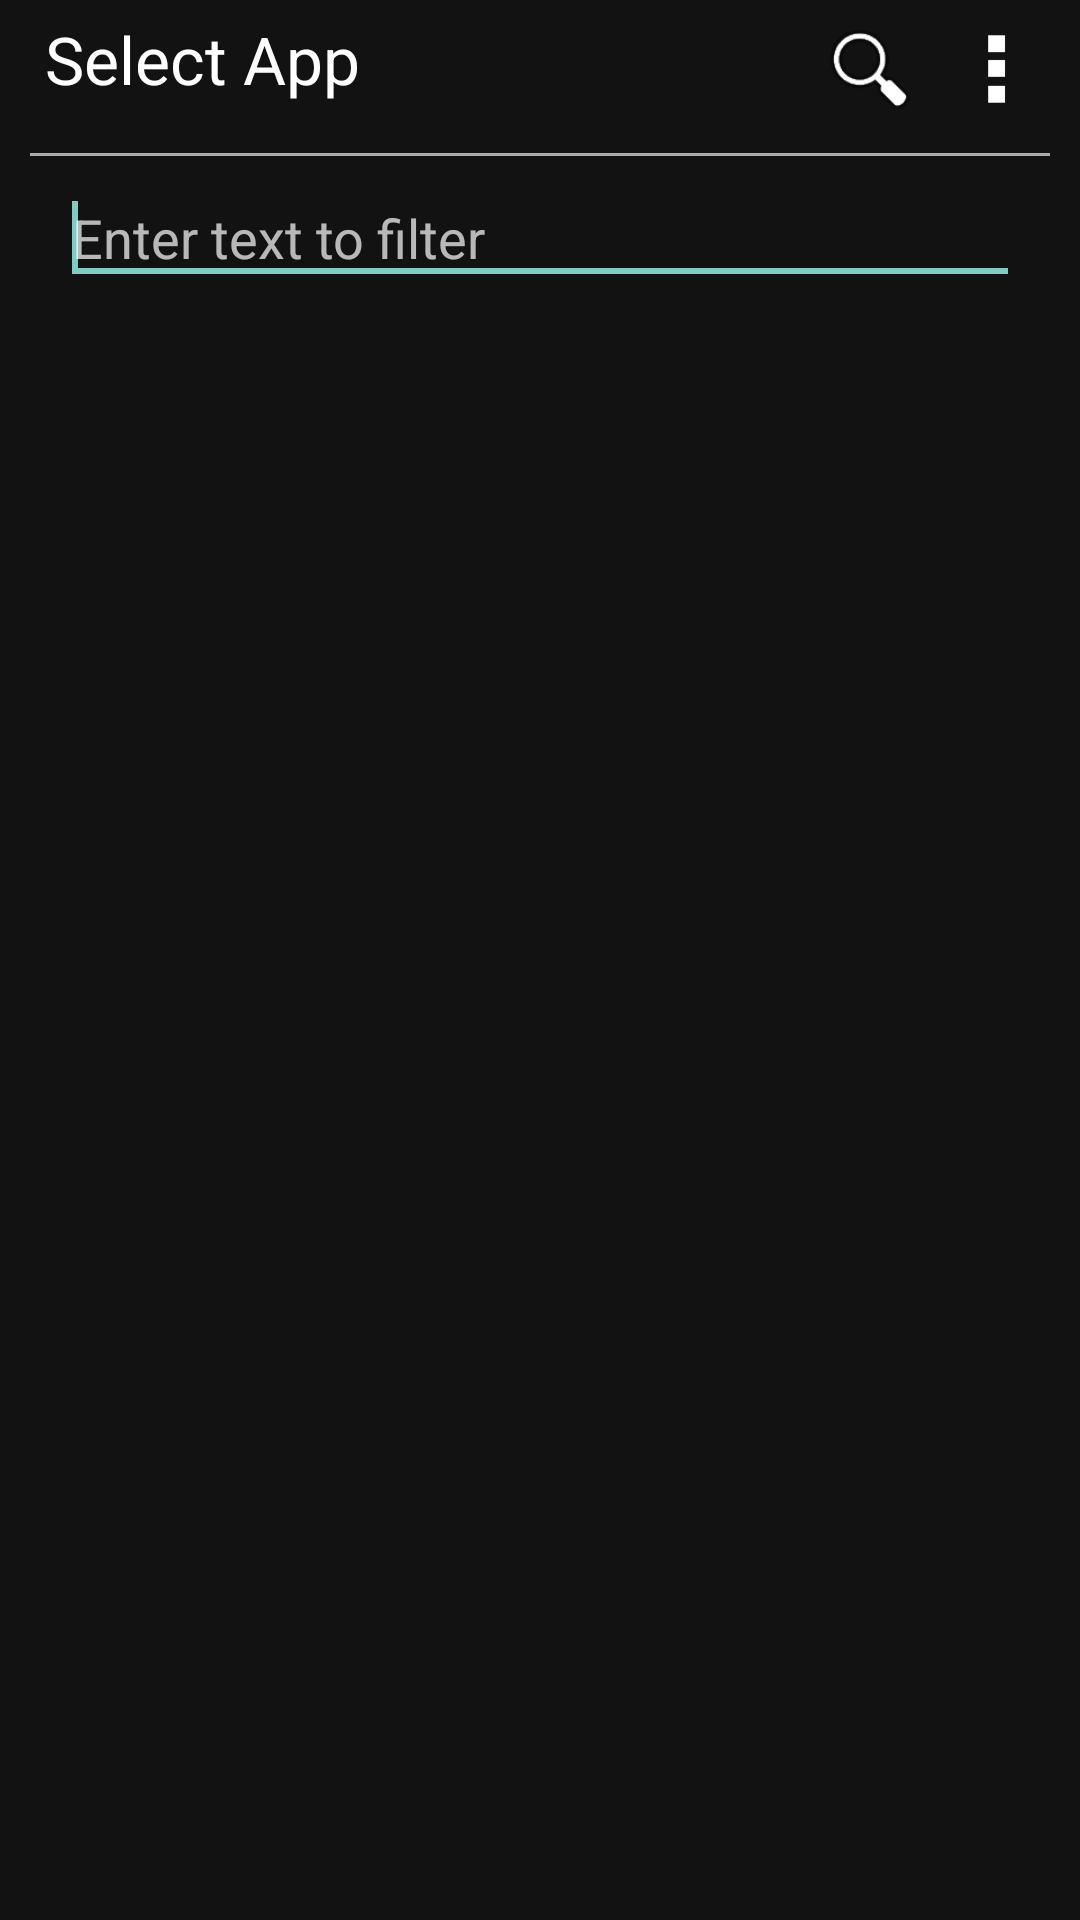

Icons on this 1080px×1920px Android screen, each with its box as [x1,y1,x2,y2]:
search: [833,33,907,106]
